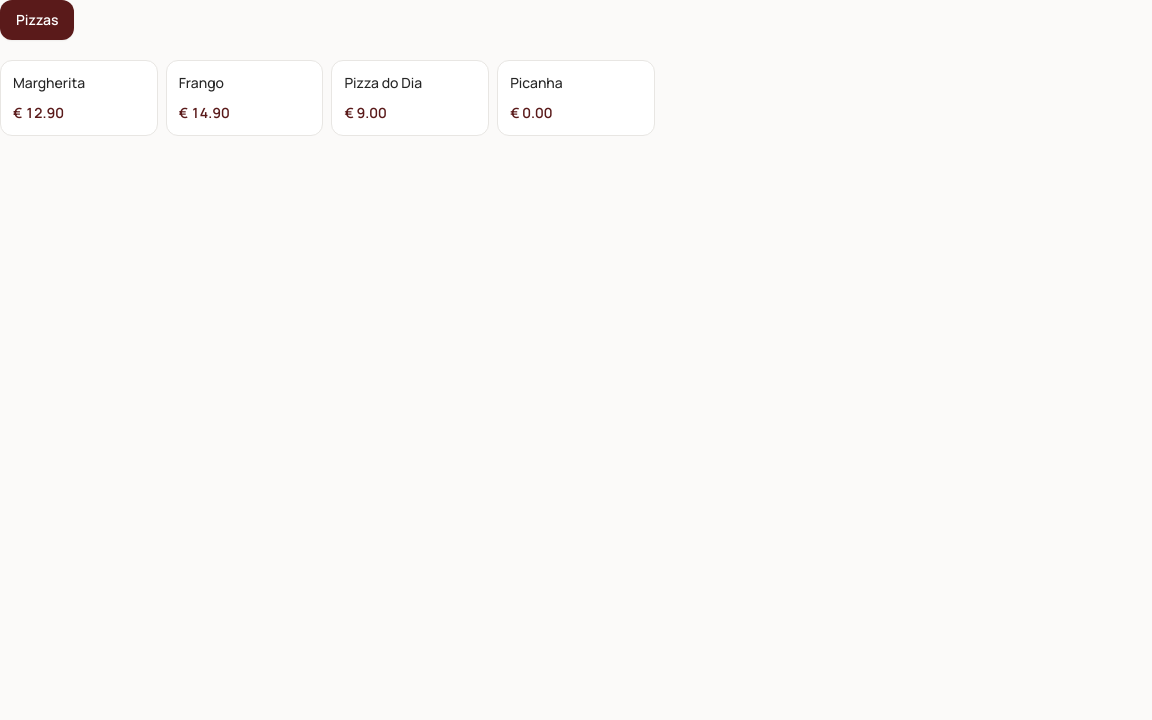
Test: meia-meia: com tamanho escolhido lista a outra metade
Click the button "Margherita € 12.90" at {"x": 79, "y": 98}, box [0,60,158,136]
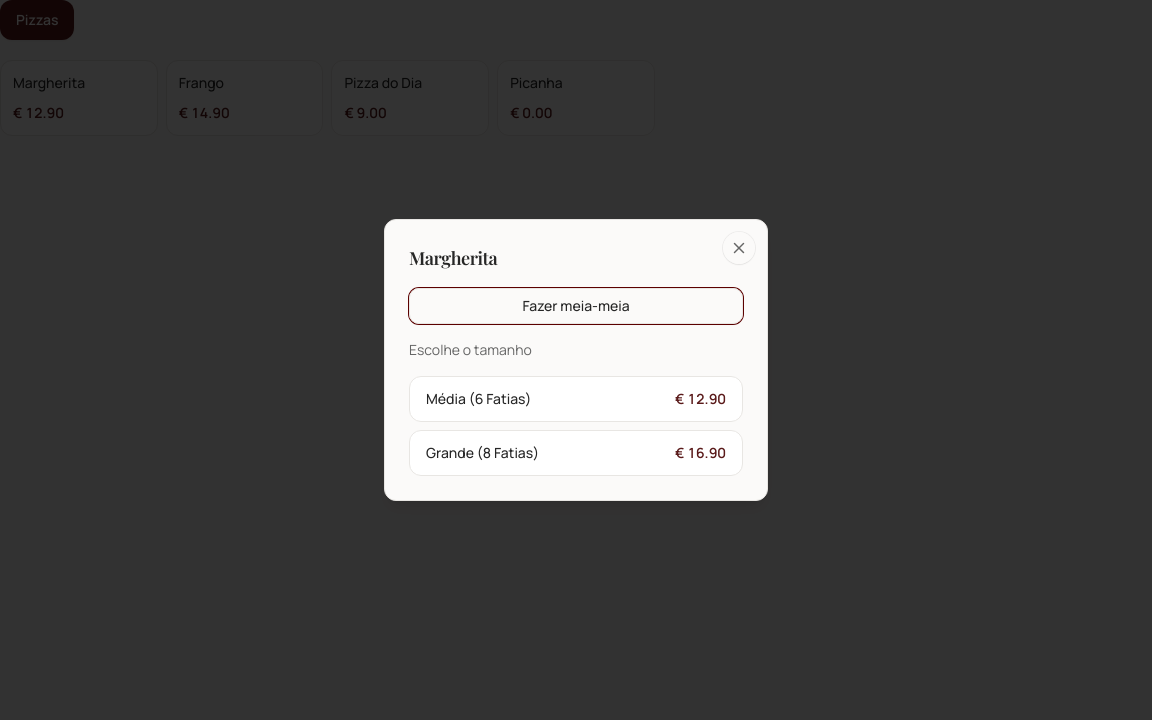
Click the button "Fazer meia-meia" at {"x": 576, "y": 306}, box [409,288,743,324]
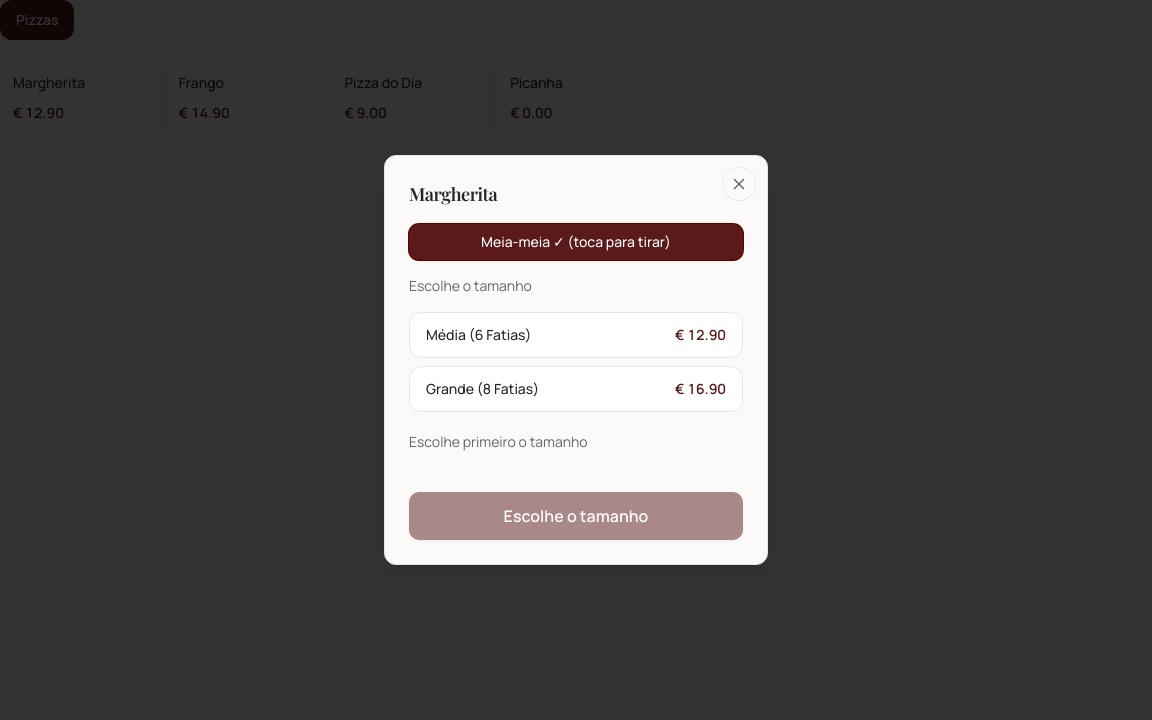
Click the button "Grande (8 Fatias) € 16.90" at {"x": 482, "y": 388}, box [409,366,743,412]
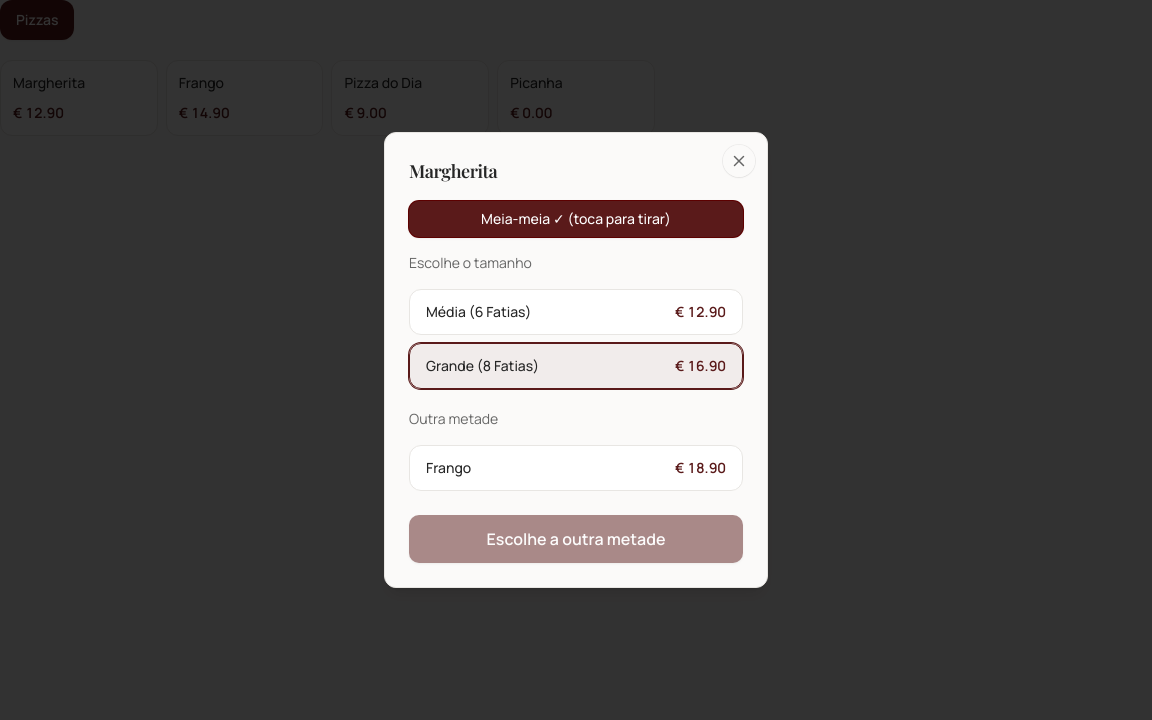
Expected: the dialog shows "Outra metade", [409,409,498,428]
Expected: the dialog shows "Frango", [409,445,743,491]
